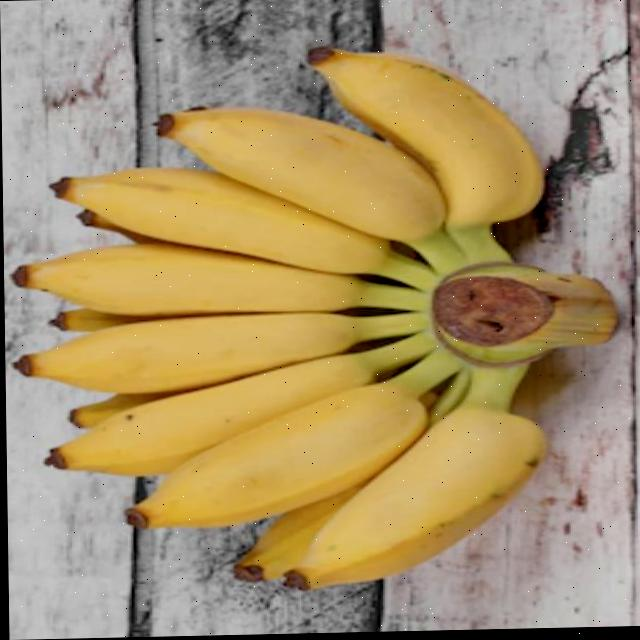banana: (37, 33, 602, 610)
